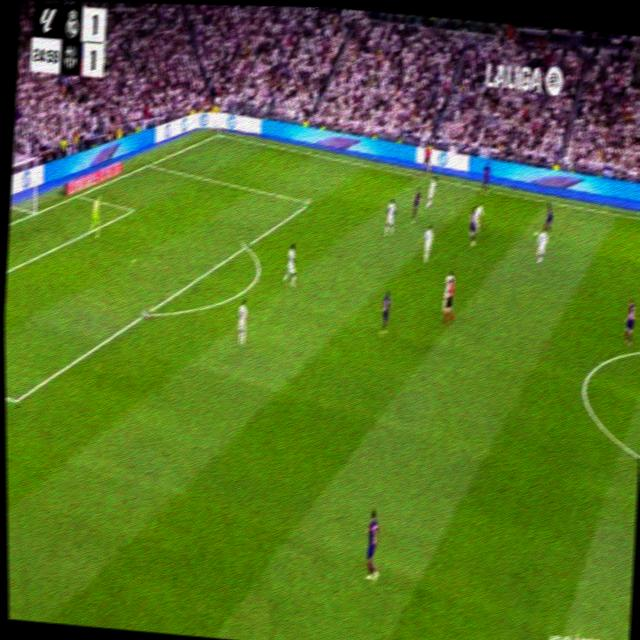bigarea_bottom_inner: (9, 386, 22, 412)
bigarea_top_inner: (305, 195, 313, 209)
bigarea_top_outter: (145, 158, 153, 169)
bottom_arc_area_intersection: (141, 302, 154, 321)
corner: (214, 129, 223, 138)
smallarea_top_inner: (128, 204, 135, 213)
top_arc_area_intersection: (240, 236, 251, 254)
